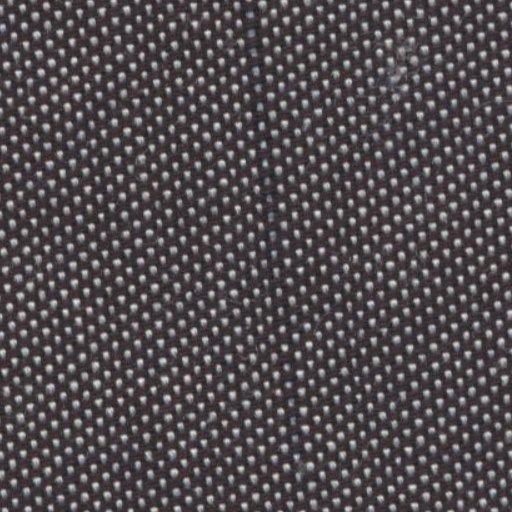TuoSha: (228, 2, 322, 504)
